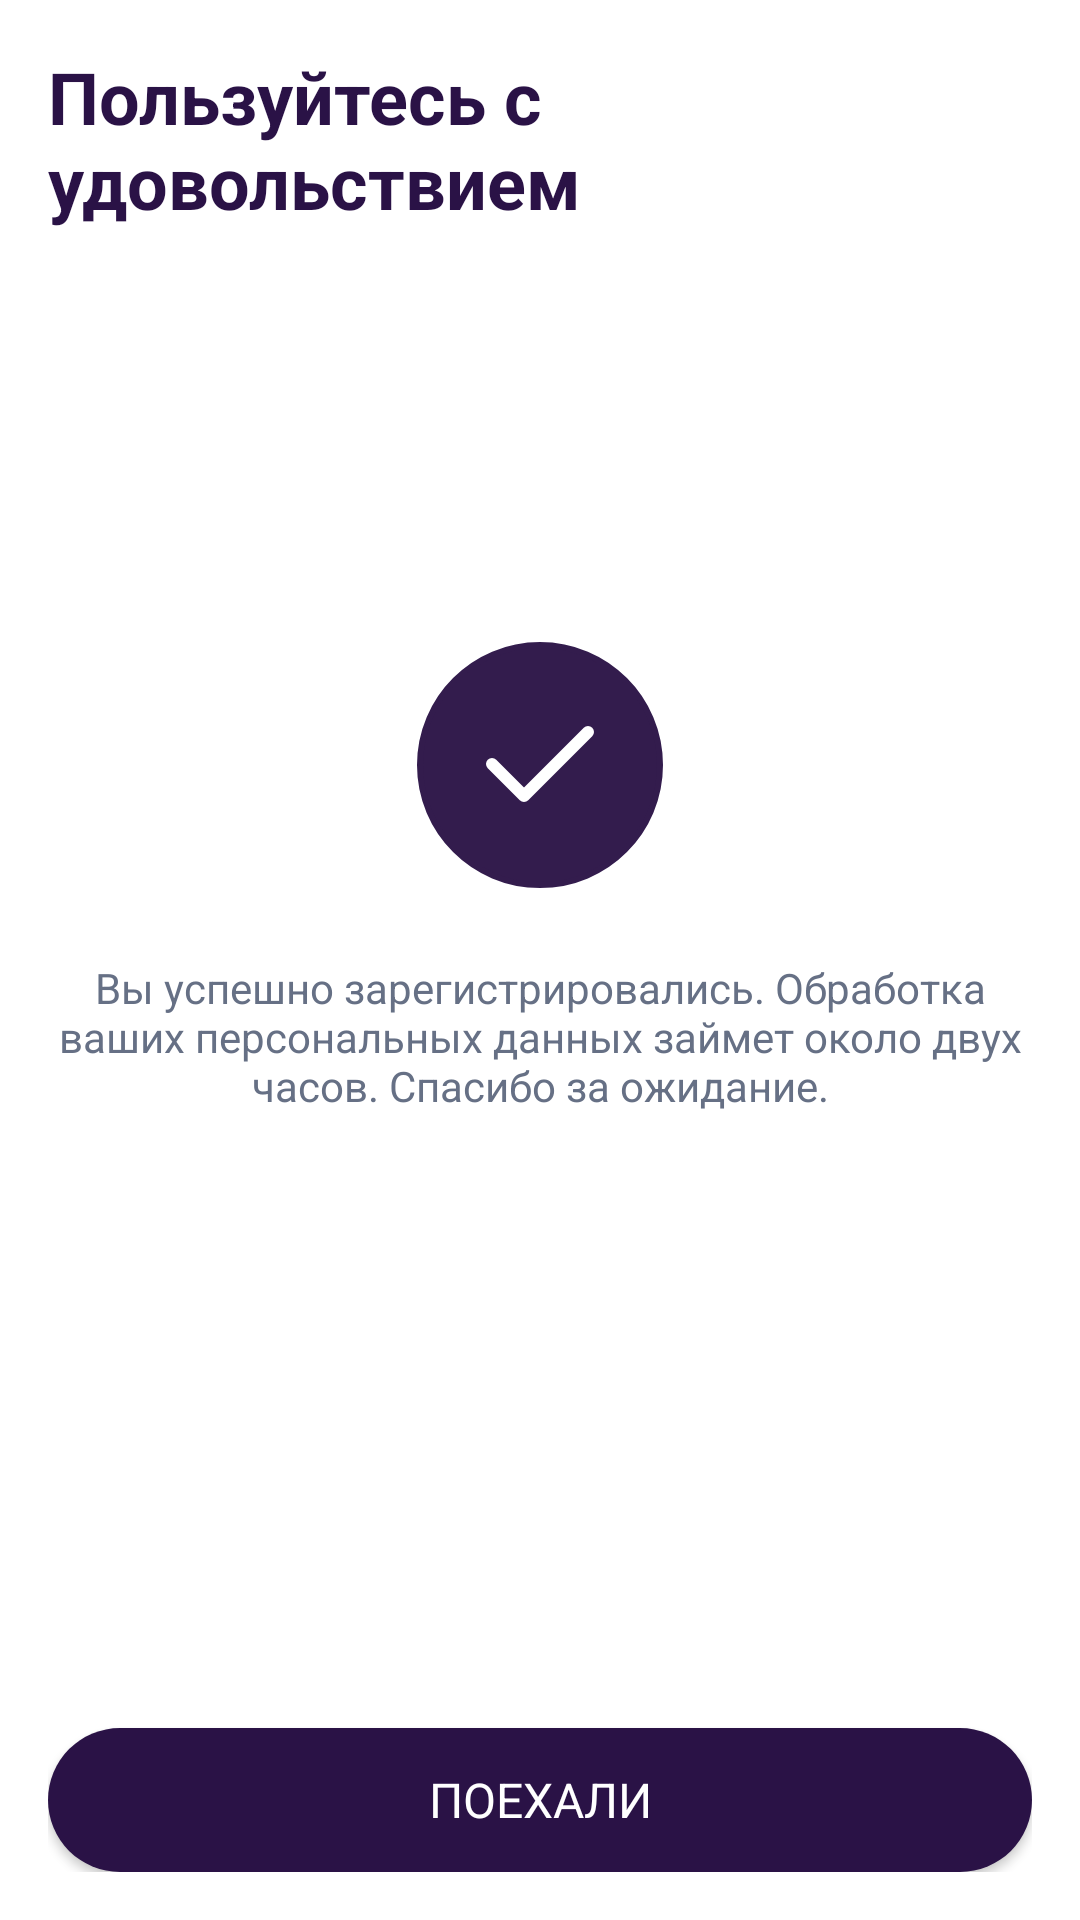

Where icons sit on this 1080px x 1920px app screen, as region(x1, y1, x2, y2):
check circle: region(417, 642, 663, 888)
